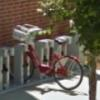bicycles: (14, 23, 84, 92)
